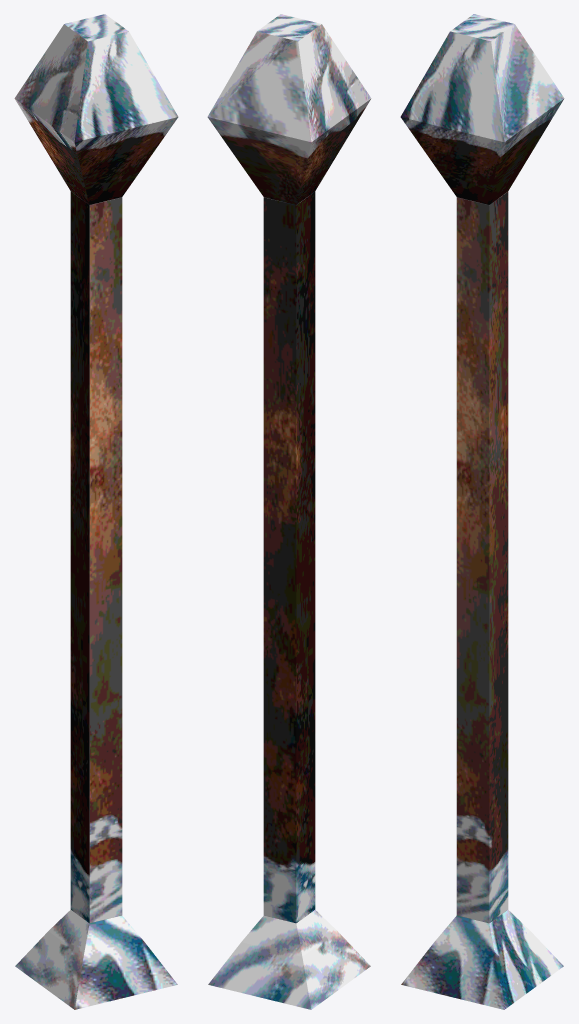
The model's file is poste.fbx.
The picture shows the model from 3 angles, left to right: view 1: azimuth 30°, elevation 25°; view 2: azimuth 150°, elevation 25°; view 3: azimuth 330°, elevation 25°; orthographic projection.
Visible parts, largest first — view 1: Cube; view 2: Cube; view 3: Cube.
Boxes of the visible parts, x1,y1,x2,y2 form: Cube: (14,14,178,1009); Cube: (207,14,371,1009); Cube: (400,14,564,1009).
Size of the model in its own units: 53.14 by 463 by 53.14.
Materials: 1 (1 with a texture image).
